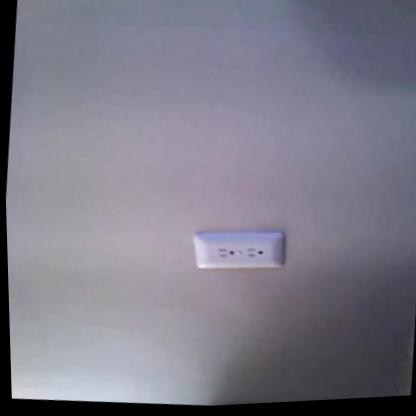OUTLET: (189, 222, 289, 276)
